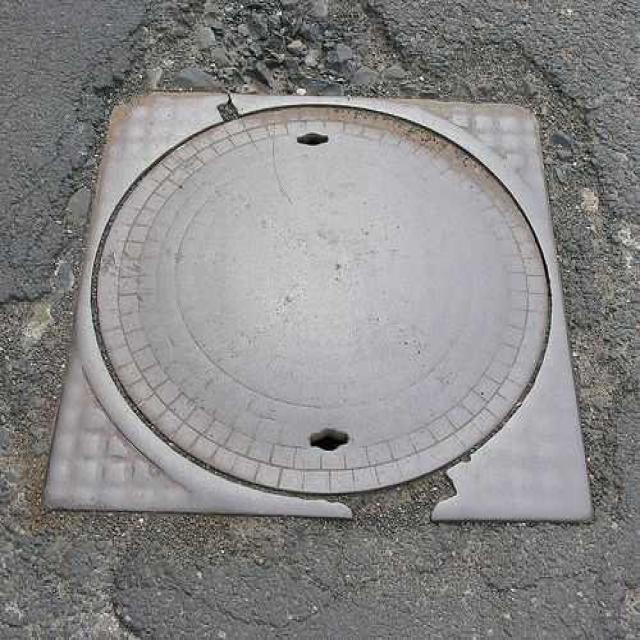manhole: (94, 107, 549, 492)
